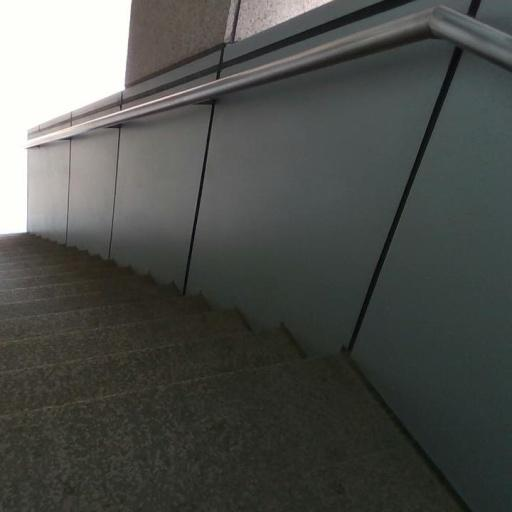stairs: (0, 235, 460, 511)
